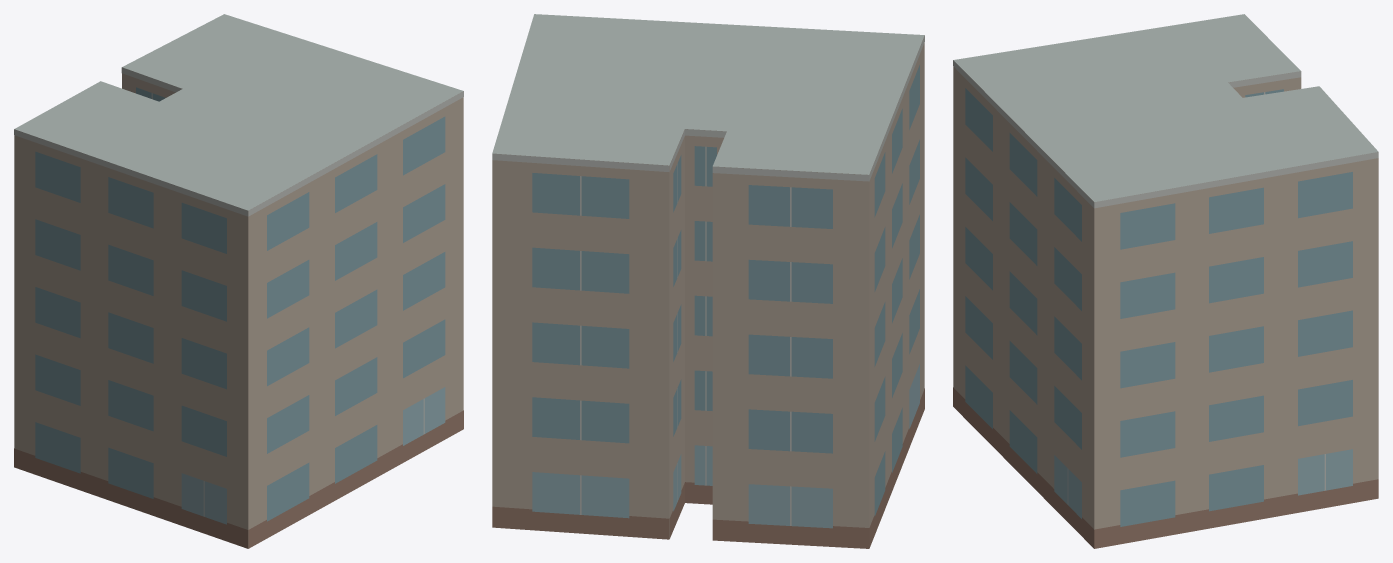
Rendered from survey-upis-32842527.glb.
The picture shows the model from 3 angles, left to right: view 1: azimuth 30°, elevation 25°; view 2: azimuth 150°, elevation 25°; view 3: azimuth 270°, elevation 25°; orthographic projection. The views are drawn at different scales.
Parts seen in each view (by area): view 1: survey-upis-32842527.tmp; view 2: survey-upis-32842527.tmp; view 3: survey-upis-32842527.tmp.
Part boxes in pixels (bbox=[...]): survey-upis-32842527.tmp: bbox=[14, 14, 463, 548]; survey-upis-32842527.tmp: bbox=[492, 14, 924, 548]; survey-upis-32842527.tmp: bbox=[953, 14, 1378, 548].
Bounding box in the file's own units: 16.02 × 13.75 × 15.3.
